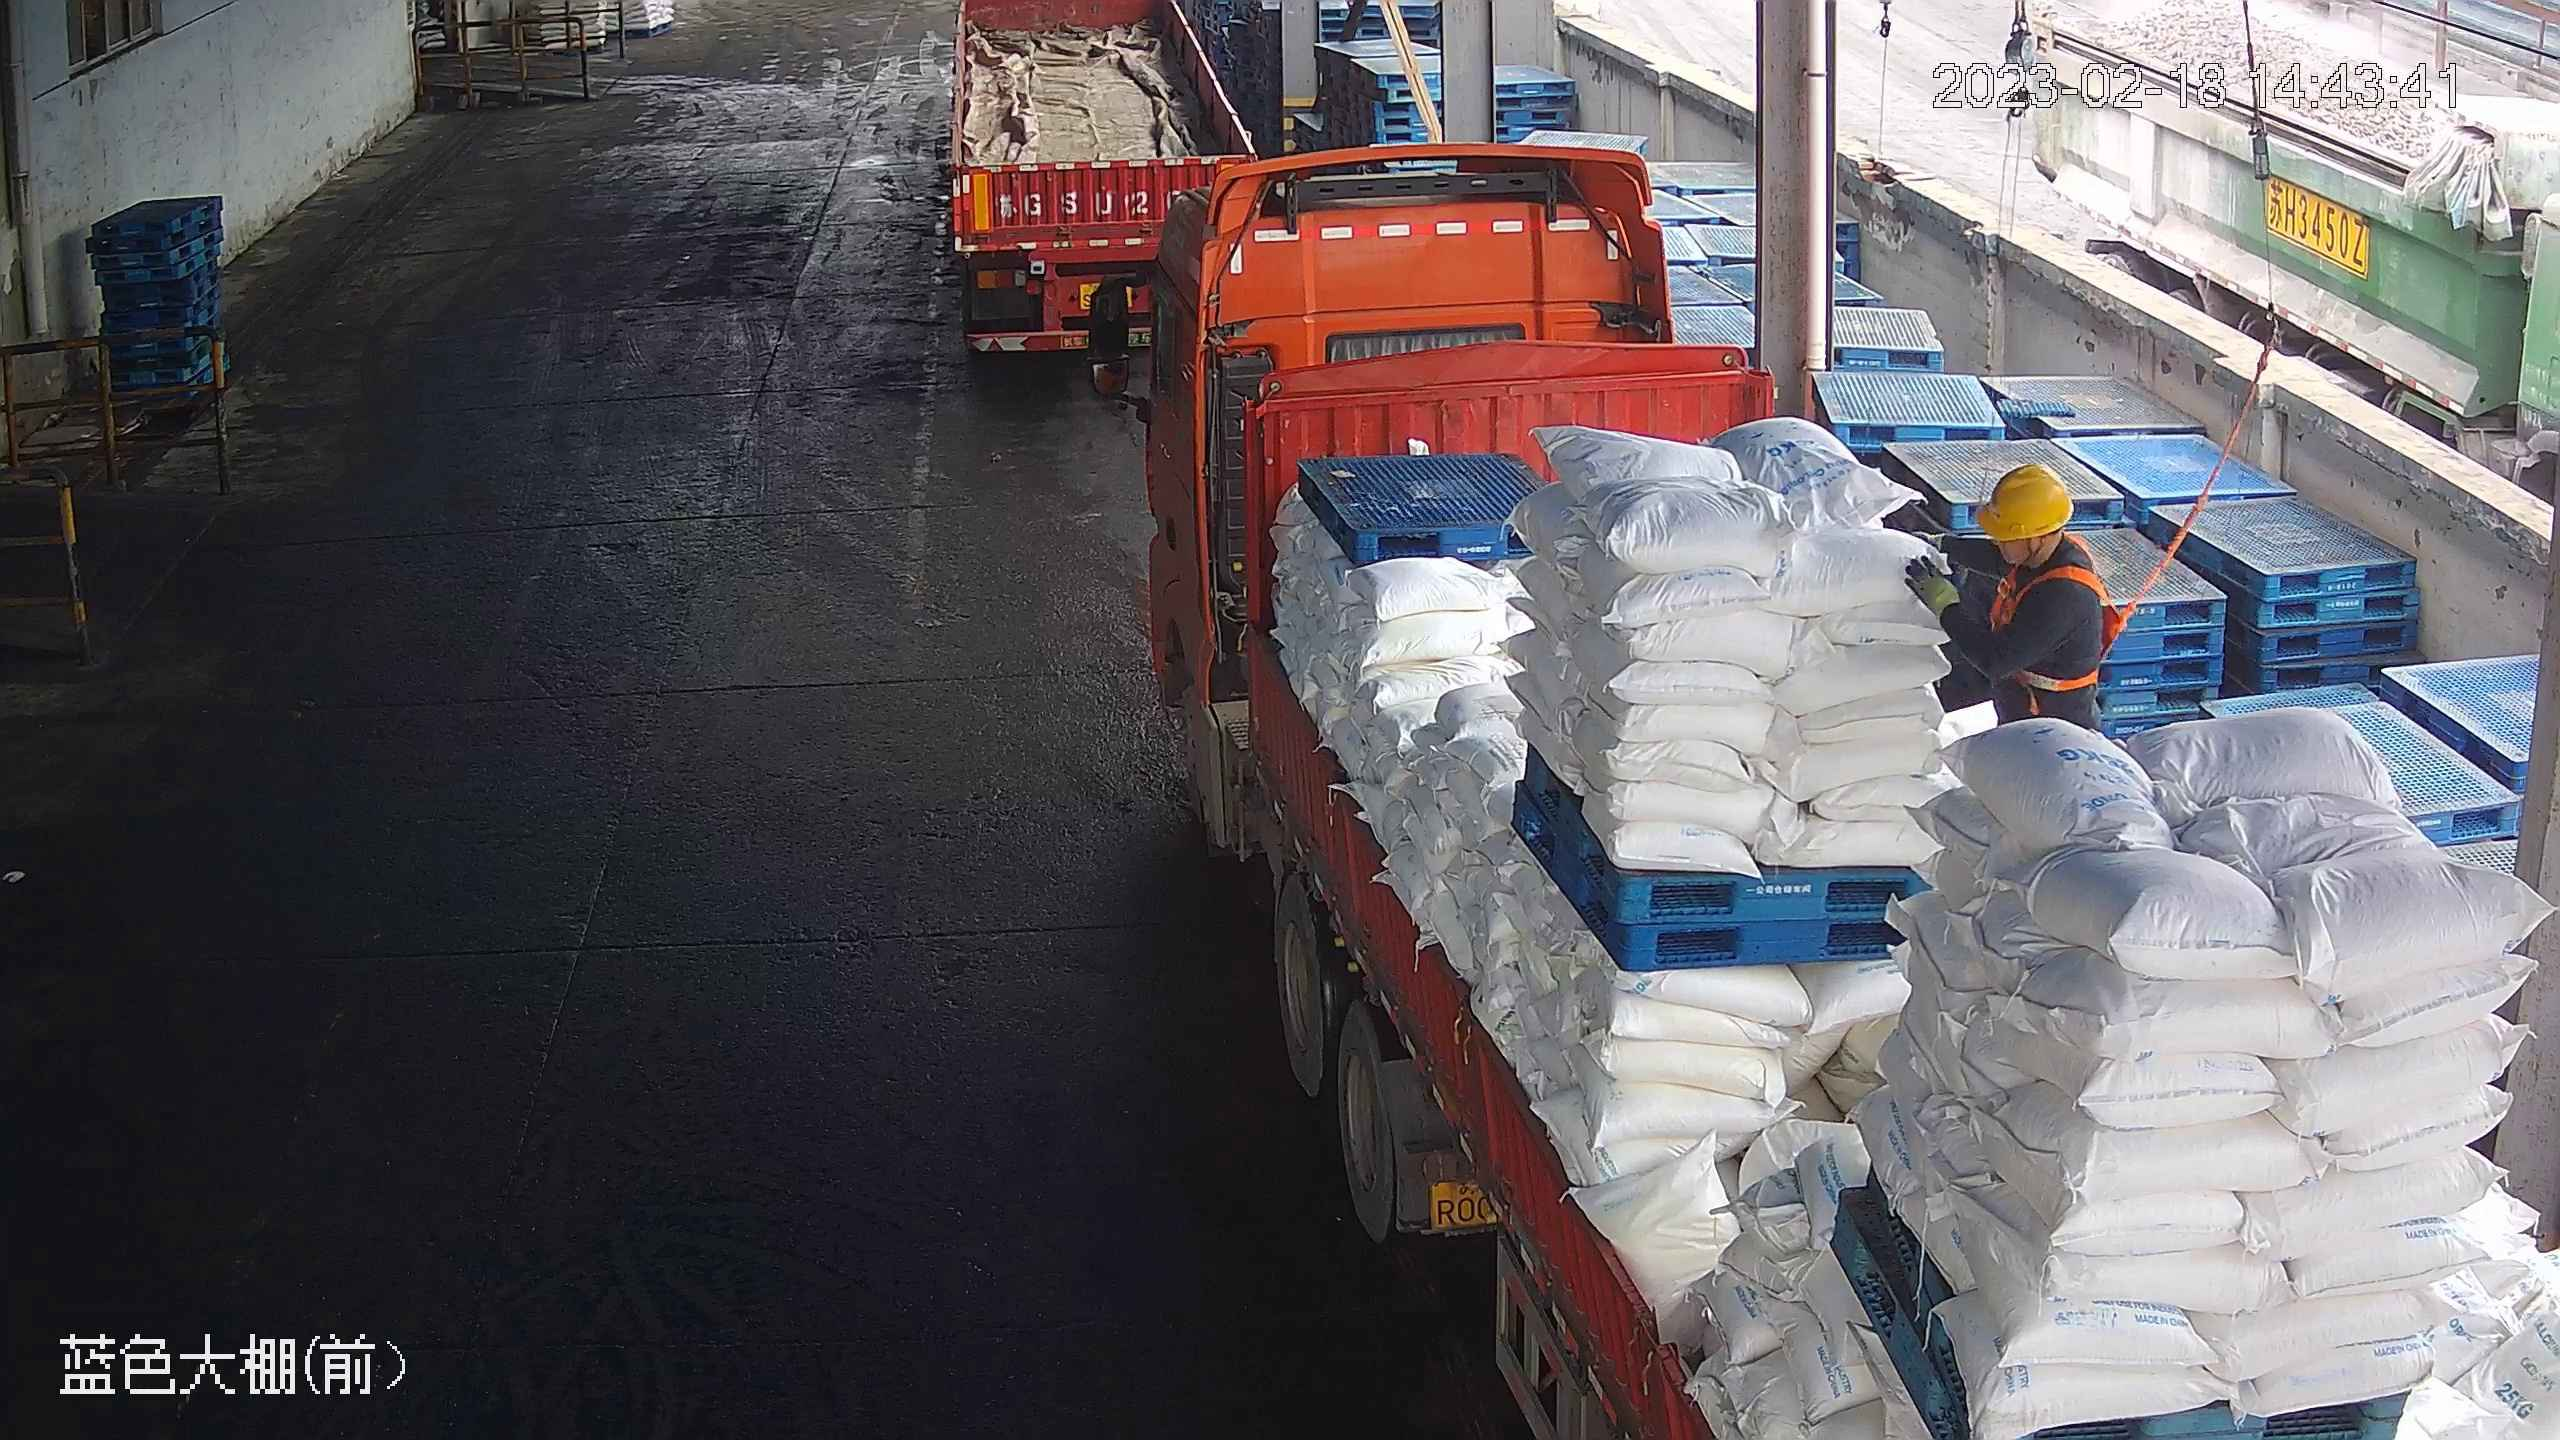belt: (2004, 548, 2131, 693)
head: (1968, 460, 2109, 630)
helmet: (1972, 460, 2076, 540)
people: (1900, 459, 2111, 740)
truck: (1084, 139, 2557, 1435), (948, 3, 1260, 356)
